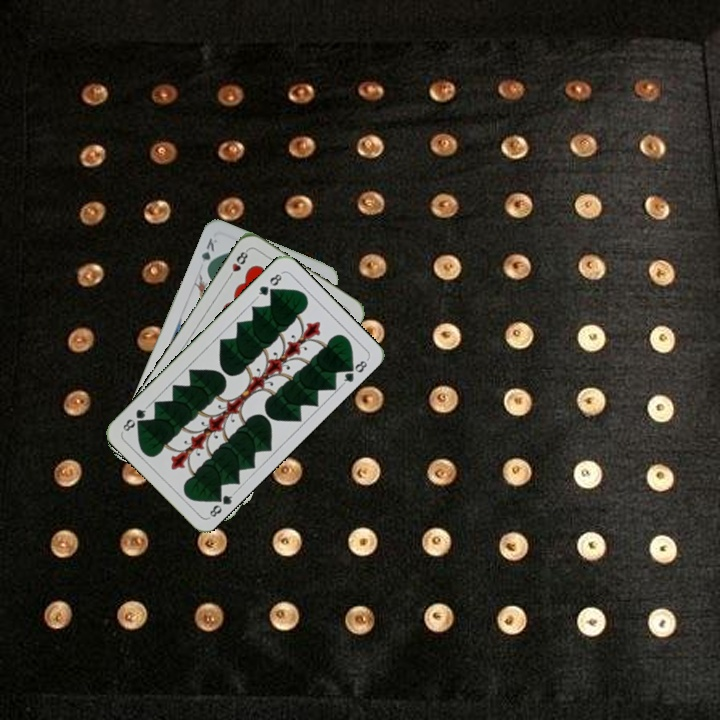G8: (205, 488, 238, 521), (253, 269, 285, 301)
GK: (197, 234, 220, 273)
H8: (224, 246, 251, 282)
